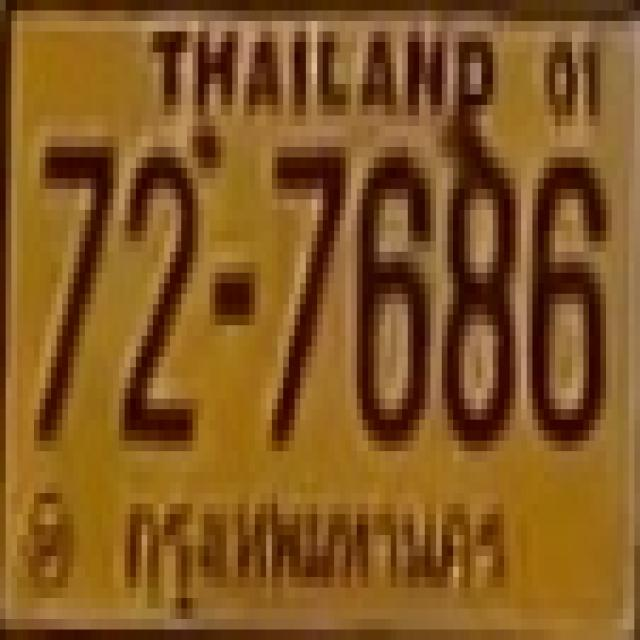2: (119, 142, 193, 436)
6: (351, 147, 425, 441), (527, 147, 600, 441)
7: (34, 142, 113, 436), (269, 136, 343, 441)
8: (442, 136, 510, 441)
BKK: (121, 488, 514, 610)
